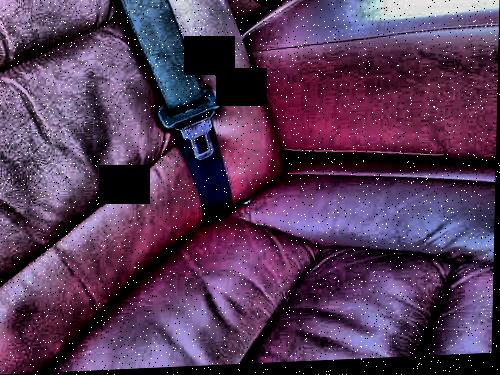seatbelt: (113, 0, 285, 248)
